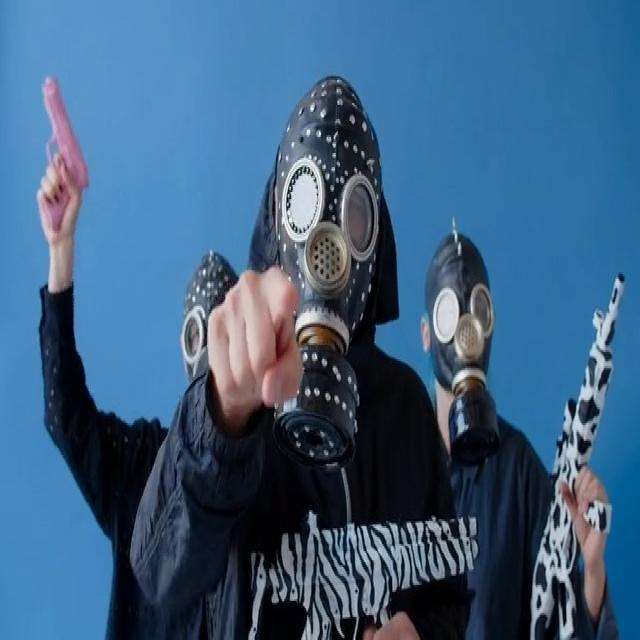Gun_Holder: (509, 257, 638, 640), (24, 67, 122, 251)
Person: (137, 81, 462, 640), (415, 211, 616, 640)
